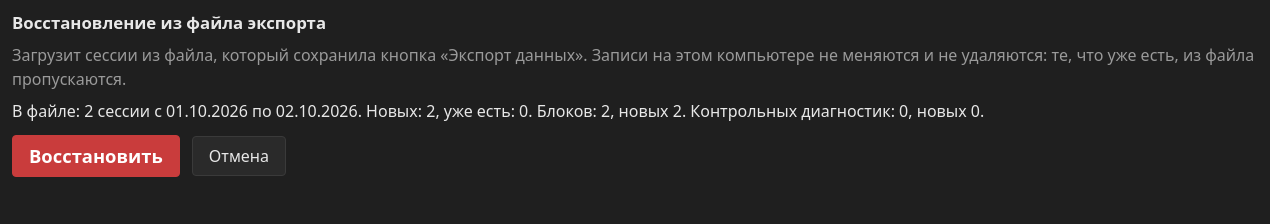
Test case: RestoreSection › a failed backup said in Russian shows the raw reason under it (B7)
Earlier steps of the test are not shown.
Click the button "Восстановить": (96, 156) [12,135,180,177]
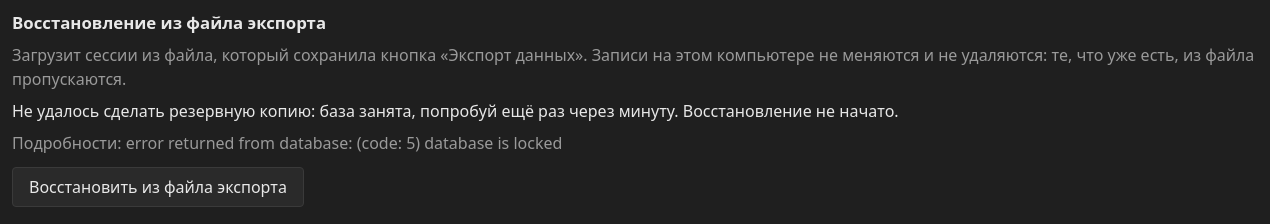
Check: the message shows "Не удалось сделать резервную копию: база занята, попробуй ещё раз через минуту. Восстановление не начато.", box [12,100,899,122]
